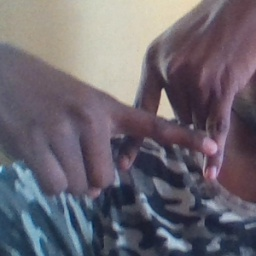H: (103, 55, 242, 188)
